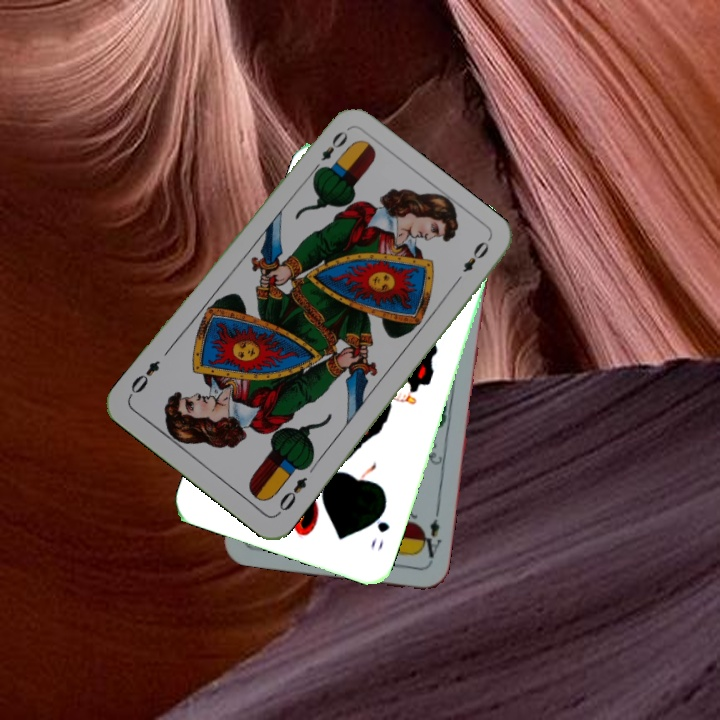EA: (416, 515, 444, 567)
EO: (308, 126, 351, 177), (273, 473, 310, 518)
GO: (366, 501, 392, 554)
